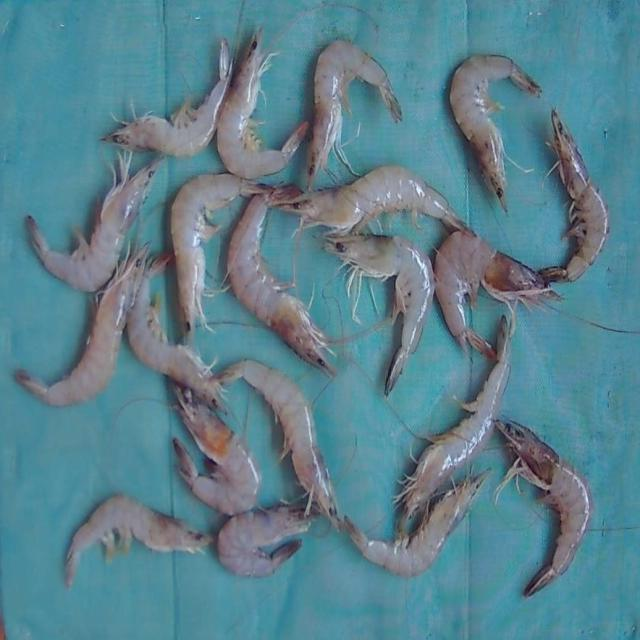shrimp: (397, 317, 512, 536), (15, 246, 146, 407), (227, 184, 335, 376), (220, 360, 340, 528), (27, 151, 162, 292), (326, 235, 436, 395), (171, 173, 276, 335), (497, 422, 593, 597), (435, 232, 561, 358), (345, 473, 490, 578), (103, 38, 232, 156), (127, 254, 221, 408), (280, 165, 478, 238), (450, 55, 542, 211), (308, 39, 403, 189), (217, 28, 309, 179), (65, 496, 212, 589), (540, 108, 610, 283), (173, 385, 261, 517), (217, 507, 317, 578)
